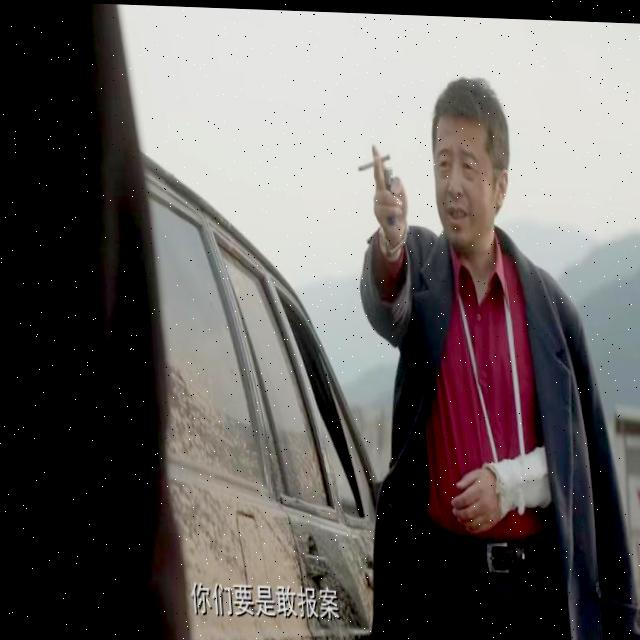cigarette: (354, 152, 389, 168)
